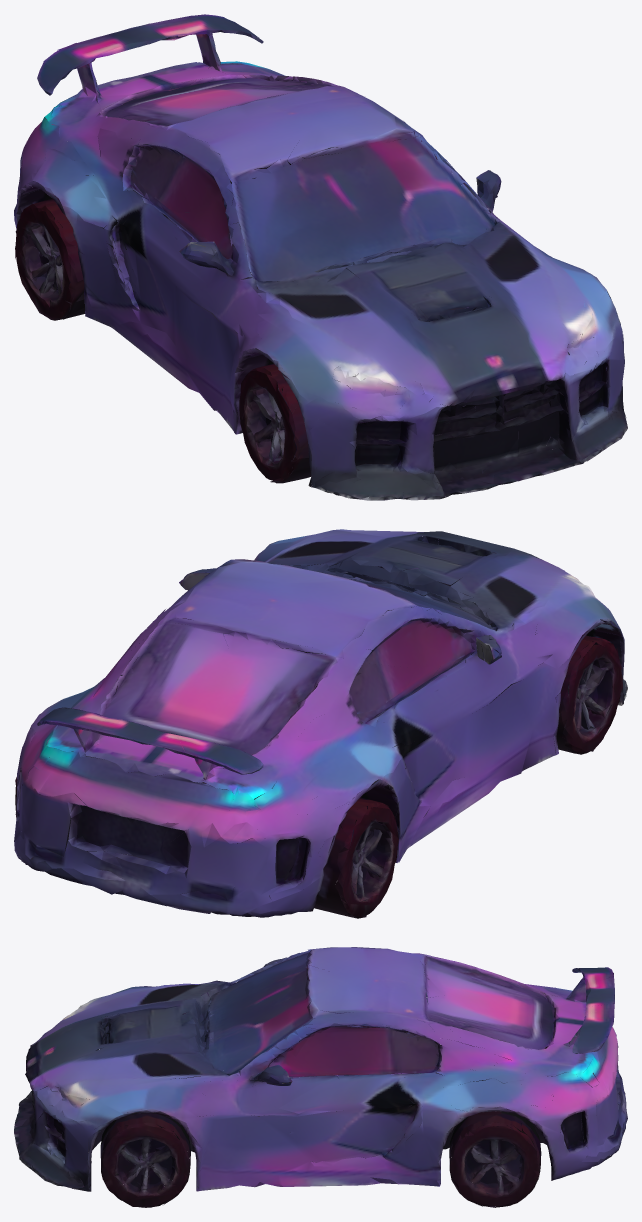
Rendered from v8supercar_armor2.glb.
3 renders of one model, top to bottom at view 1: azimuth 30°, elevation 25°; view 2: azimuth 150°, elevation 25°; view 3: azimuth 270°, elevation 25°, orthographic. The views are drawn at different scales.
Visible parts, largest first — view 1: Armor_V8_Supercar.001; view 2: Armor_V8_Supercar.001; view 3: Armor_V8_Supercar.001.
Part boxes in pixels (bbox=[...]): Armor_V8_Supercar.001: bbox=[14, 14, 627, 500]; Armor_V8_Supercar.001: bbox=[14, 529, 627, 918]; Armor_V8_Supercar.001: bbox=[14, 947, 627, 1207].
Size of the model in its own units: 0.5861 by 0.3712 by 1.2.
1 material, 1 textured.
